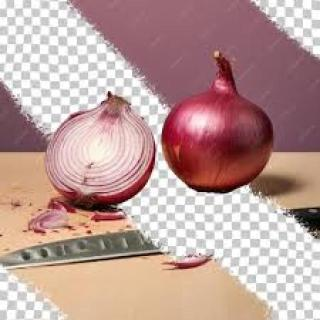Bawang Merah: (159, 51, 279, 197)
